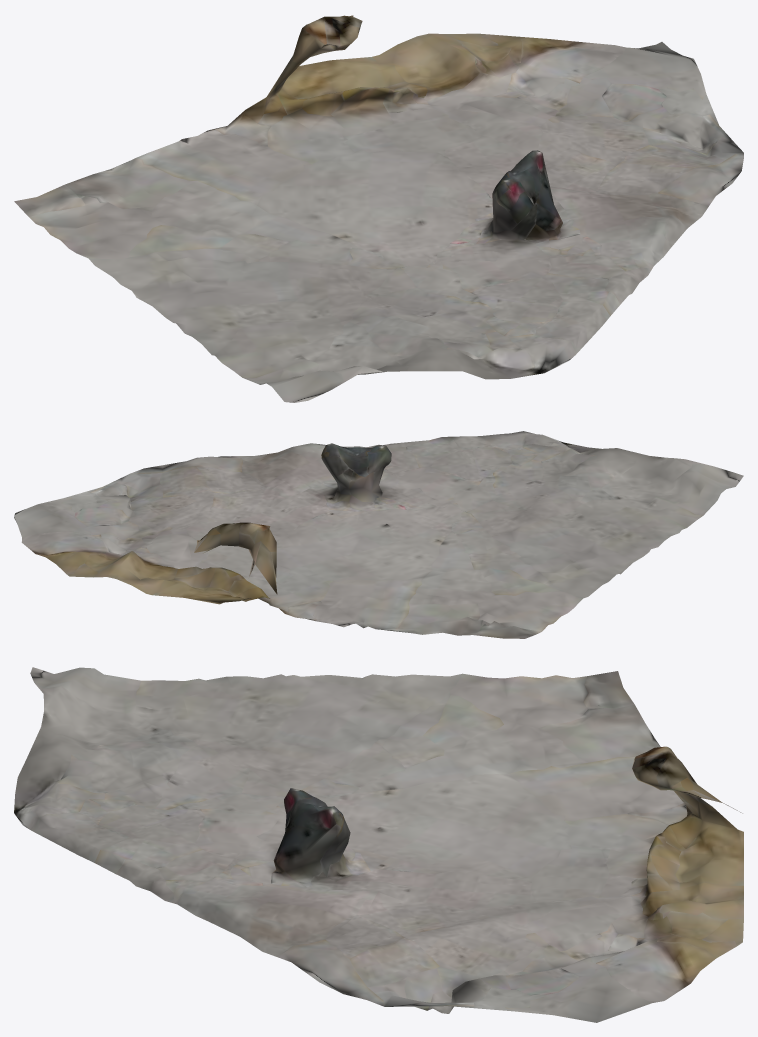
File: hall.glb
3 views of the same model, one above another, from view 1: azimuth 30°, elevation 25°; view 2: azimuth 150°, elevation 25°; view 3: azimuth 270°, elevation 25° (orthographic). The views are drawn at different scales.
Bounding box in the file's own units: 1.97 × 0.3332 × 1.79.
1 material, 1 textured.
